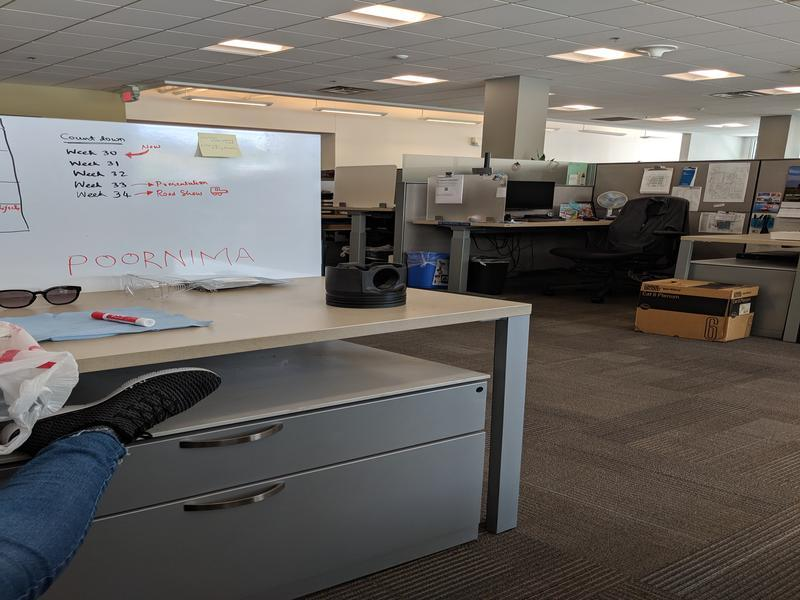piston: (323, 258, 409, 311)
